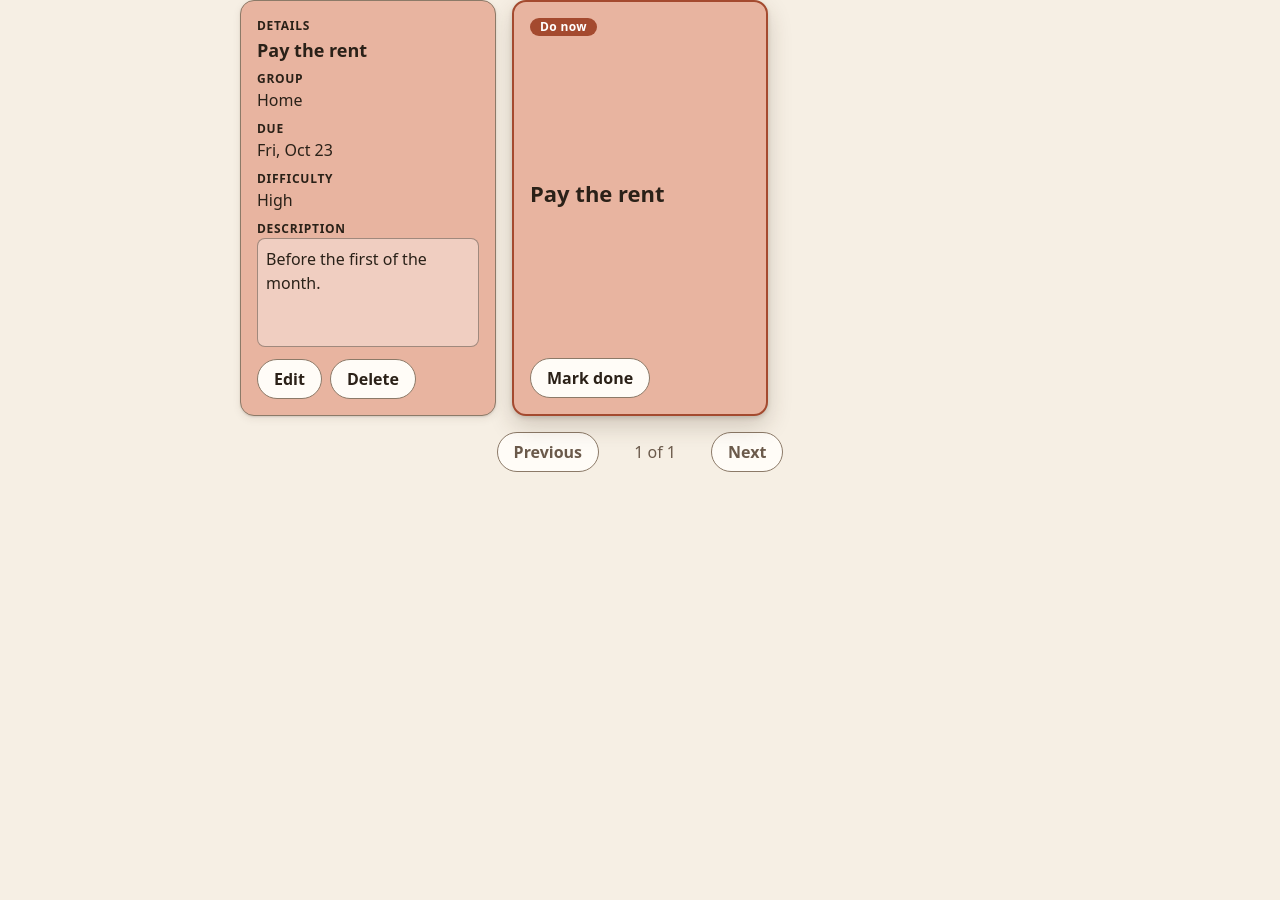
Test case: Edit › opens a dialog with the task in its fields, and the focus on the name
Click the button "Edit" at (289, 379), box [257, 359, 322, 399]
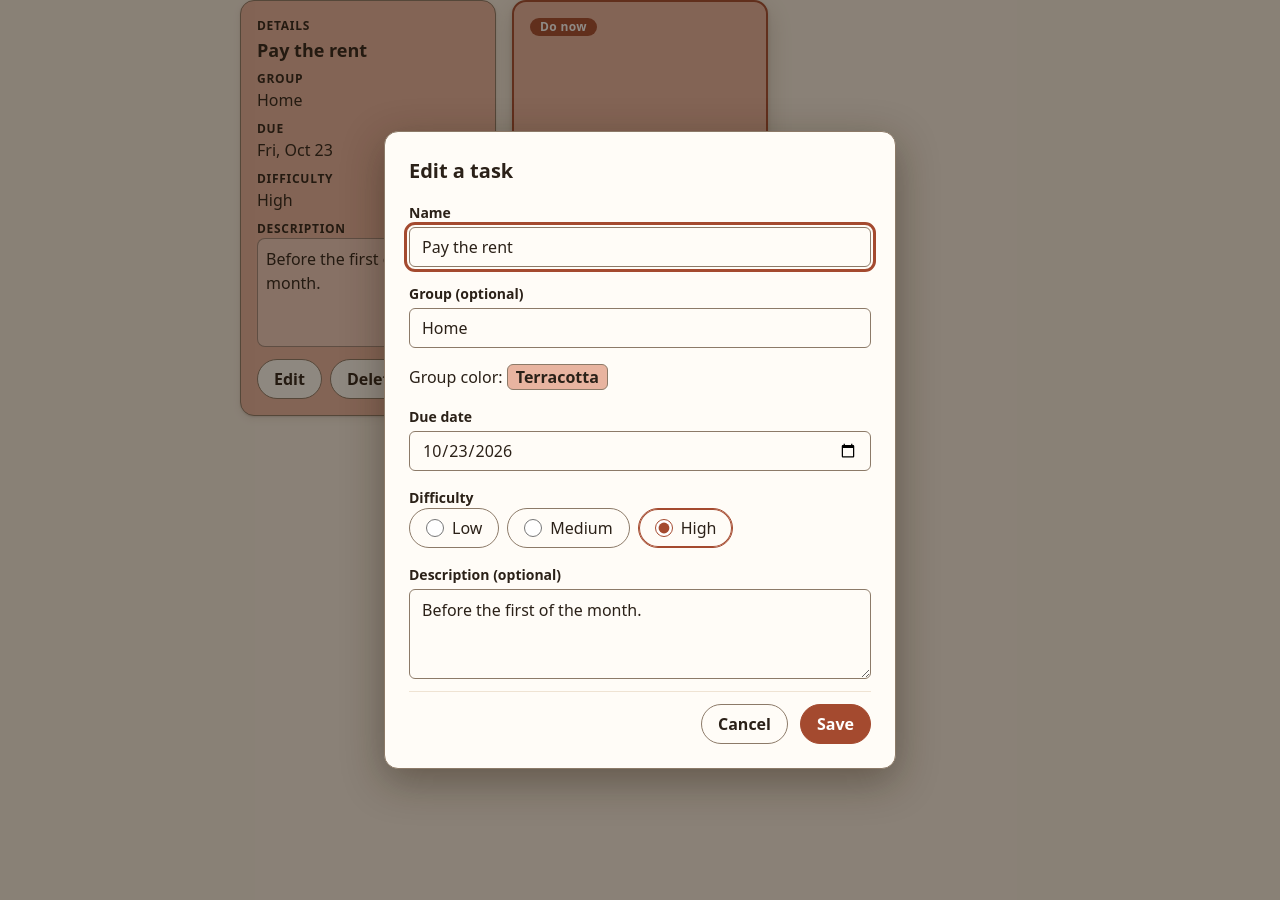
Now the number of dialogs is 1, box [384, 131, 896, 769]
Now the heading "Edit a task" is shown, box [409, 157, 513, 184]
Now the radio button named "difficulty" holds "high", box [655, 519, 673, 537]
